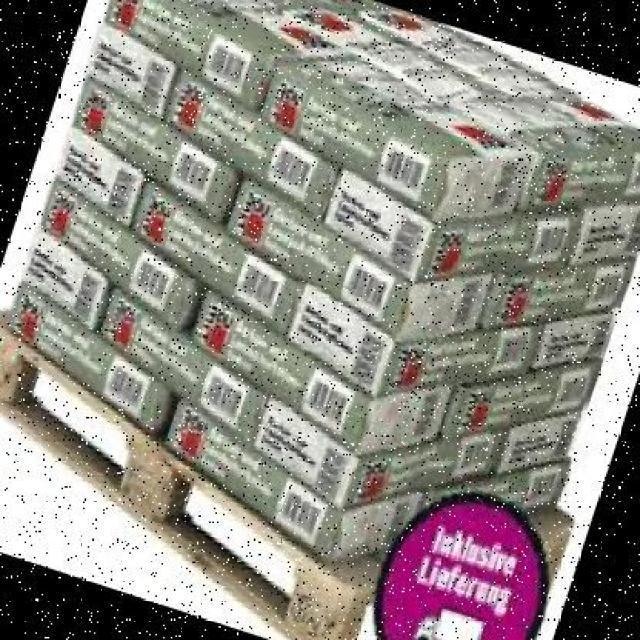gunny_bag: (95, 292, 357, 513), (259, 63, 453, 219), (158, 399, 347, 558), (223, 180, 410, 334), (194, 292, 367, 445), (165, 71, 339, 217), (71, 77, 246, 222), (7, 281, 165, 441), (41, 177, 203, 332), (134, 180, 297, 327), (106, 0, 276, 108), (281, 282, 396, 399), (485, 244, 638, 330), (320, 164, 434, 275), (442, 360, 599, 440), (22, 226, 112, 326), (57, 131, 146, 228), (86, 24, 175, 115), (424, 456, 566, 512), (528, 148, 640, 198), (494, 409, 584, 471), (528, 311, 616, 363), (570, 204, 640, 266)
